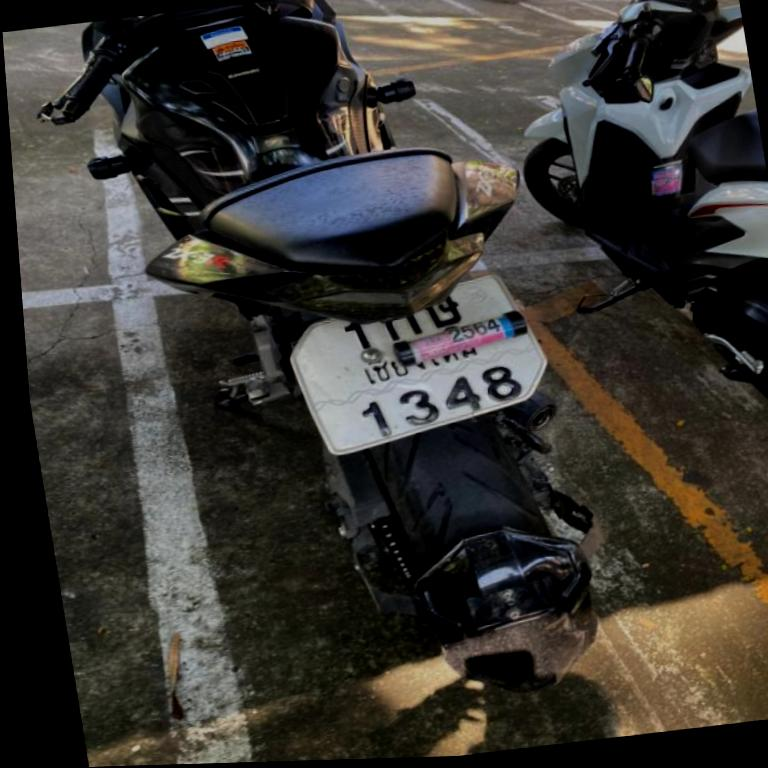license plate: (290, 269, 565, 462)
